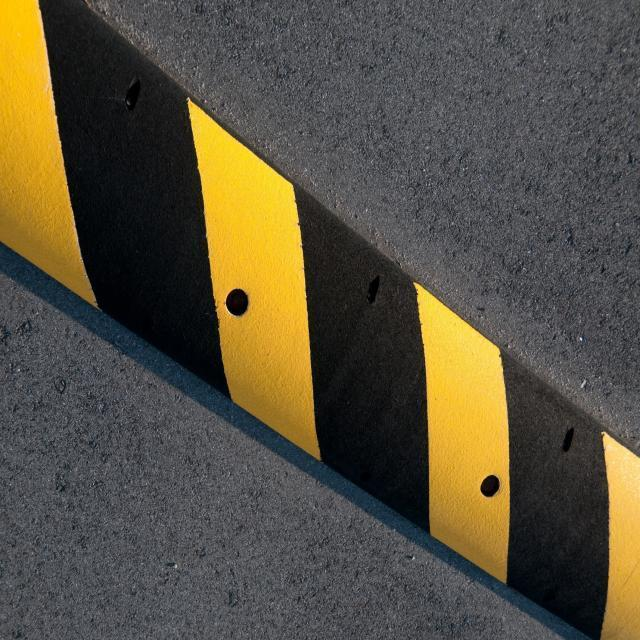Marked Bump: (35, 8, 618, 615)
